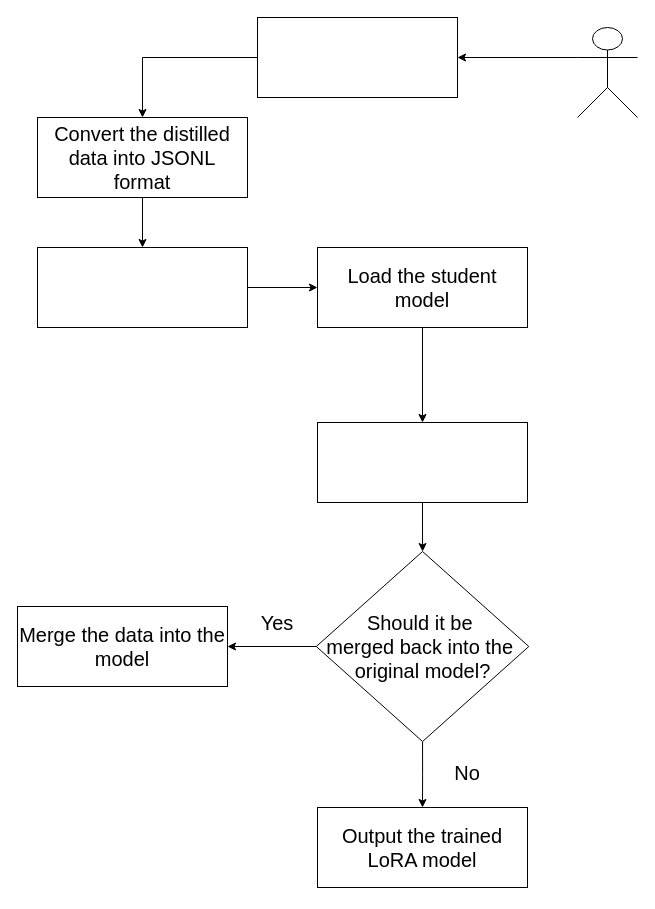
The diagram is 655 pixels wide and 909 high, and some of its shapes have lost their labels. The shapes that lost their labels are listed below. From the top down, each one's box as (x1, y1, x2, y2) in pixels, then its label:
(256, 16, 458, 98): Input prompt to distill data from the teacher model
(36, 246, 248, 328): Preprocess the training data
(316, 422, 528, 502): Input the data and start training
